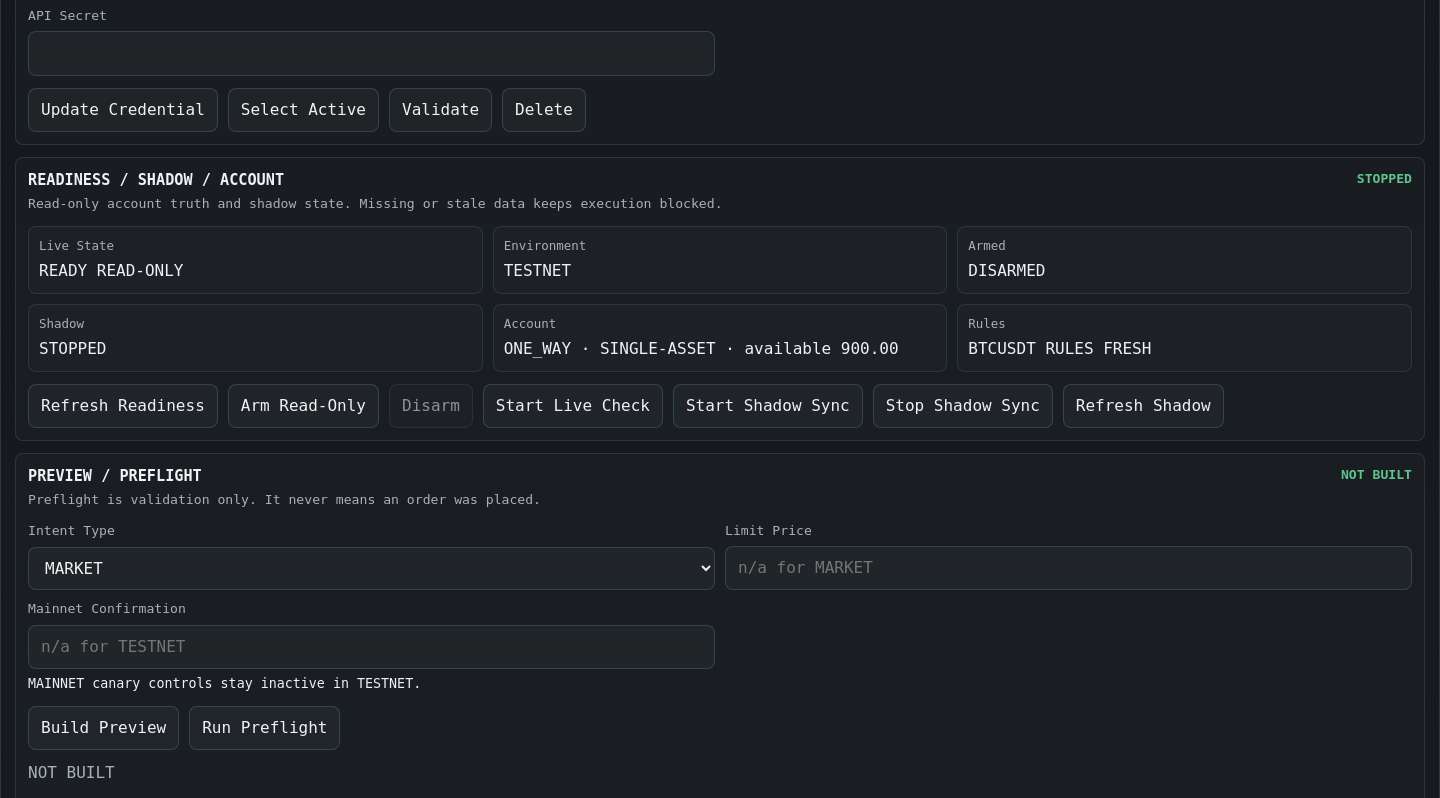
it: live access panel › arms, disarms, and keeps live start hard-blocked
The image size is (1440, 798).
(page scrolled)
Step 1. Click the button "Arm Read-Only" → (303, 406), box [228, 384, 379, 428]
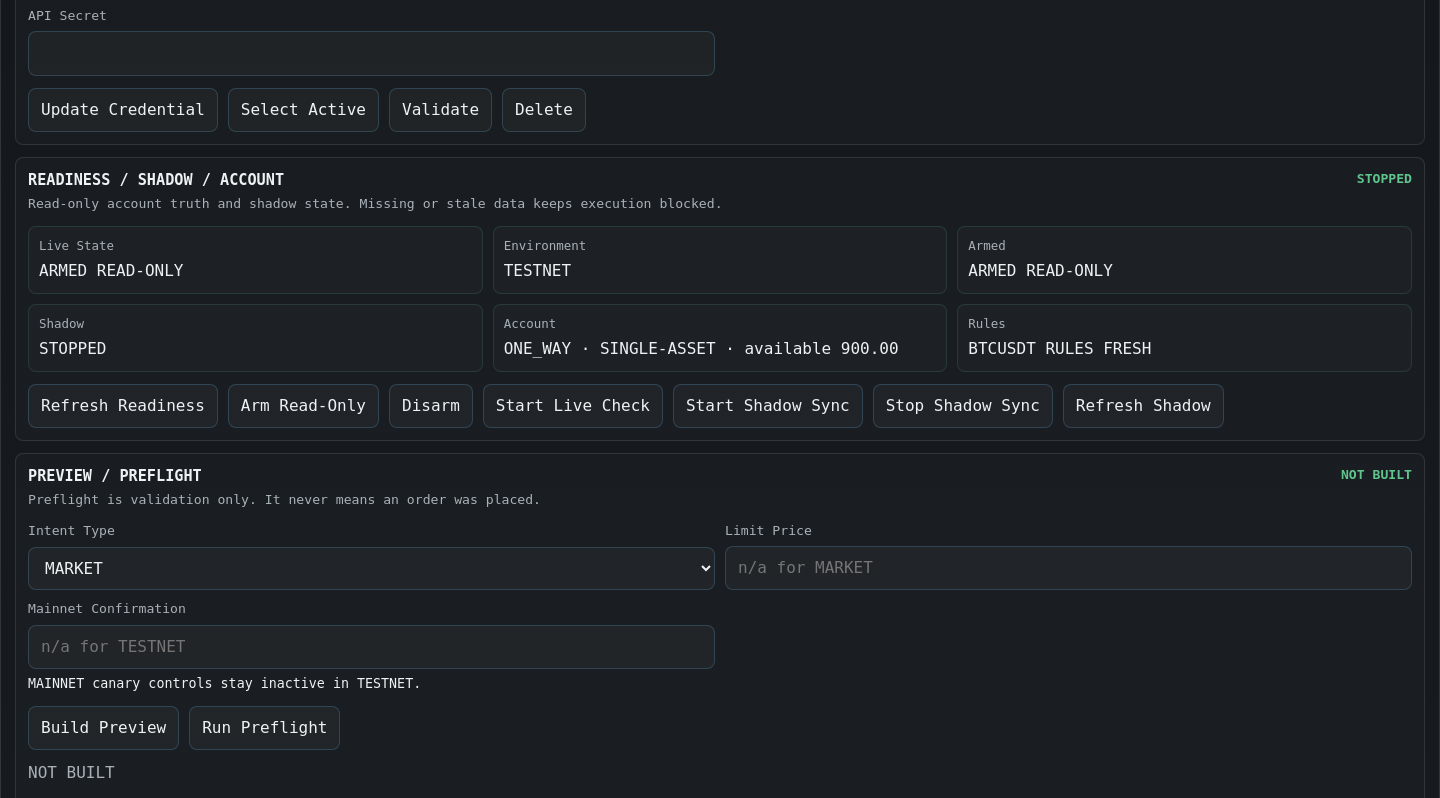
Expected: the text "ARMED READ-ONLY" below "Live State" is shown, [39, 261, 184, 280]
Step 2. Click the button "Start Live Check" → (573, 406), box [483, 384, 663, 428]
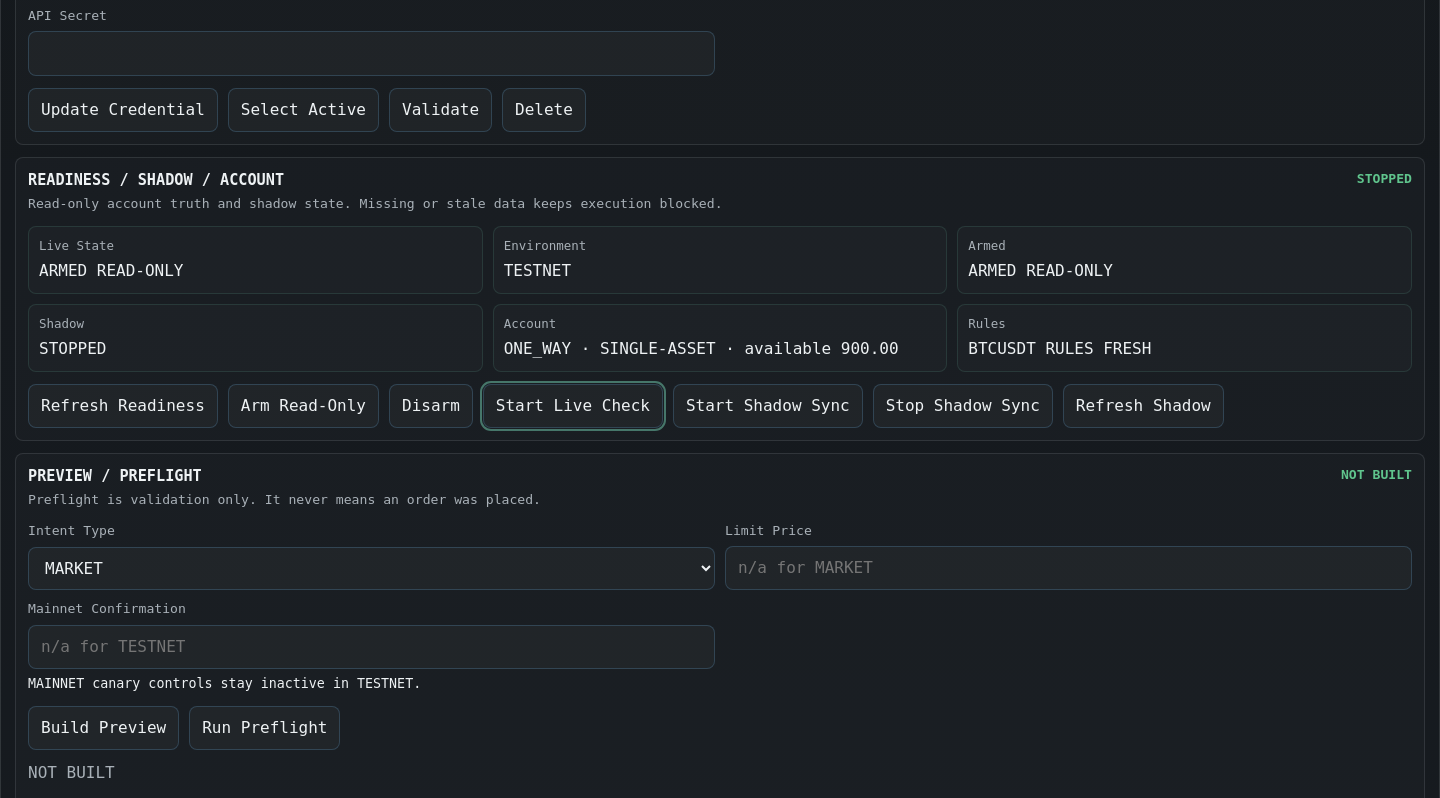
Step 3. Click the button "Disarm" → (431, 406), box [389, 384, 473, 428]
(page scrolled)
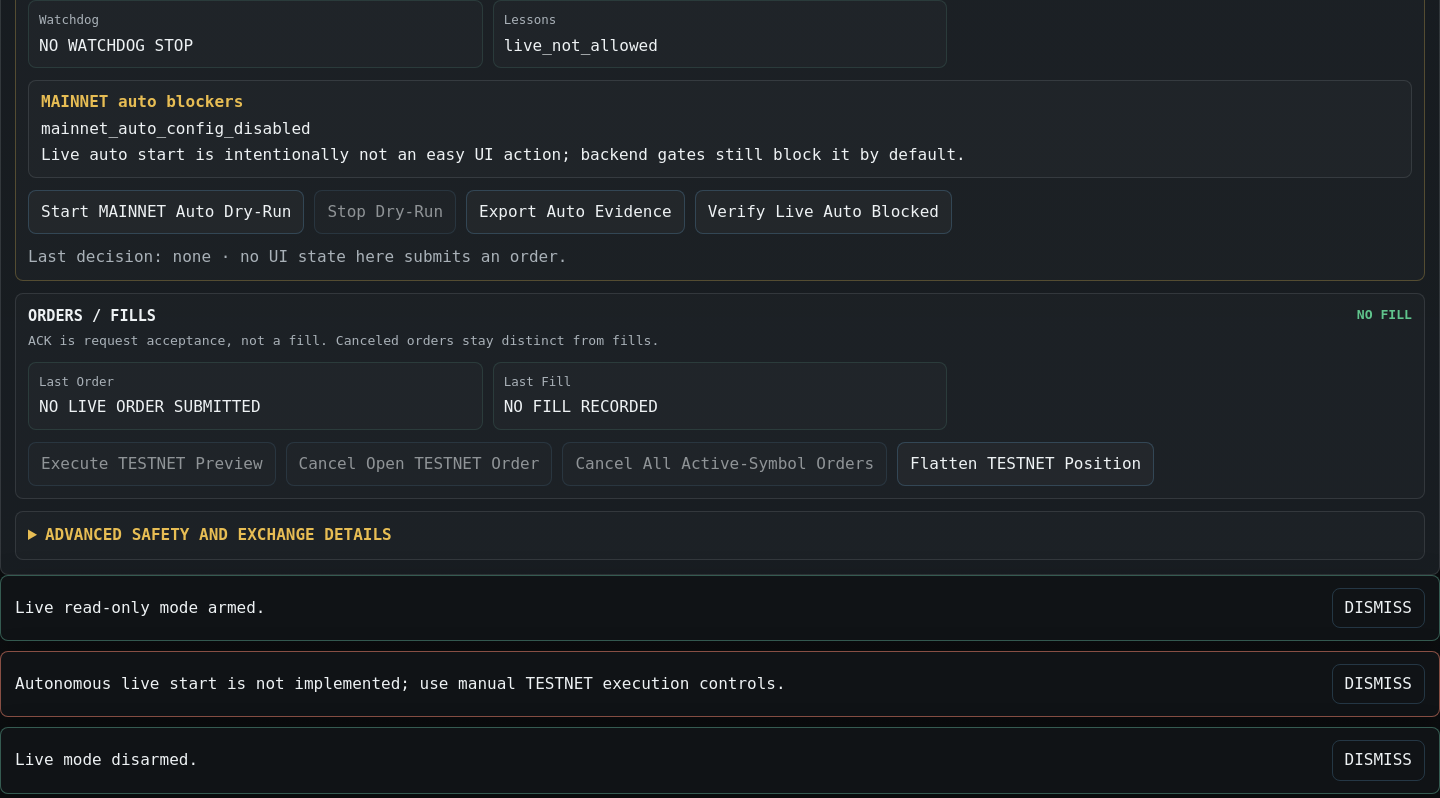
Expected: the text "Live mode disarmed." is shown, [15, 750, 198, 769]
